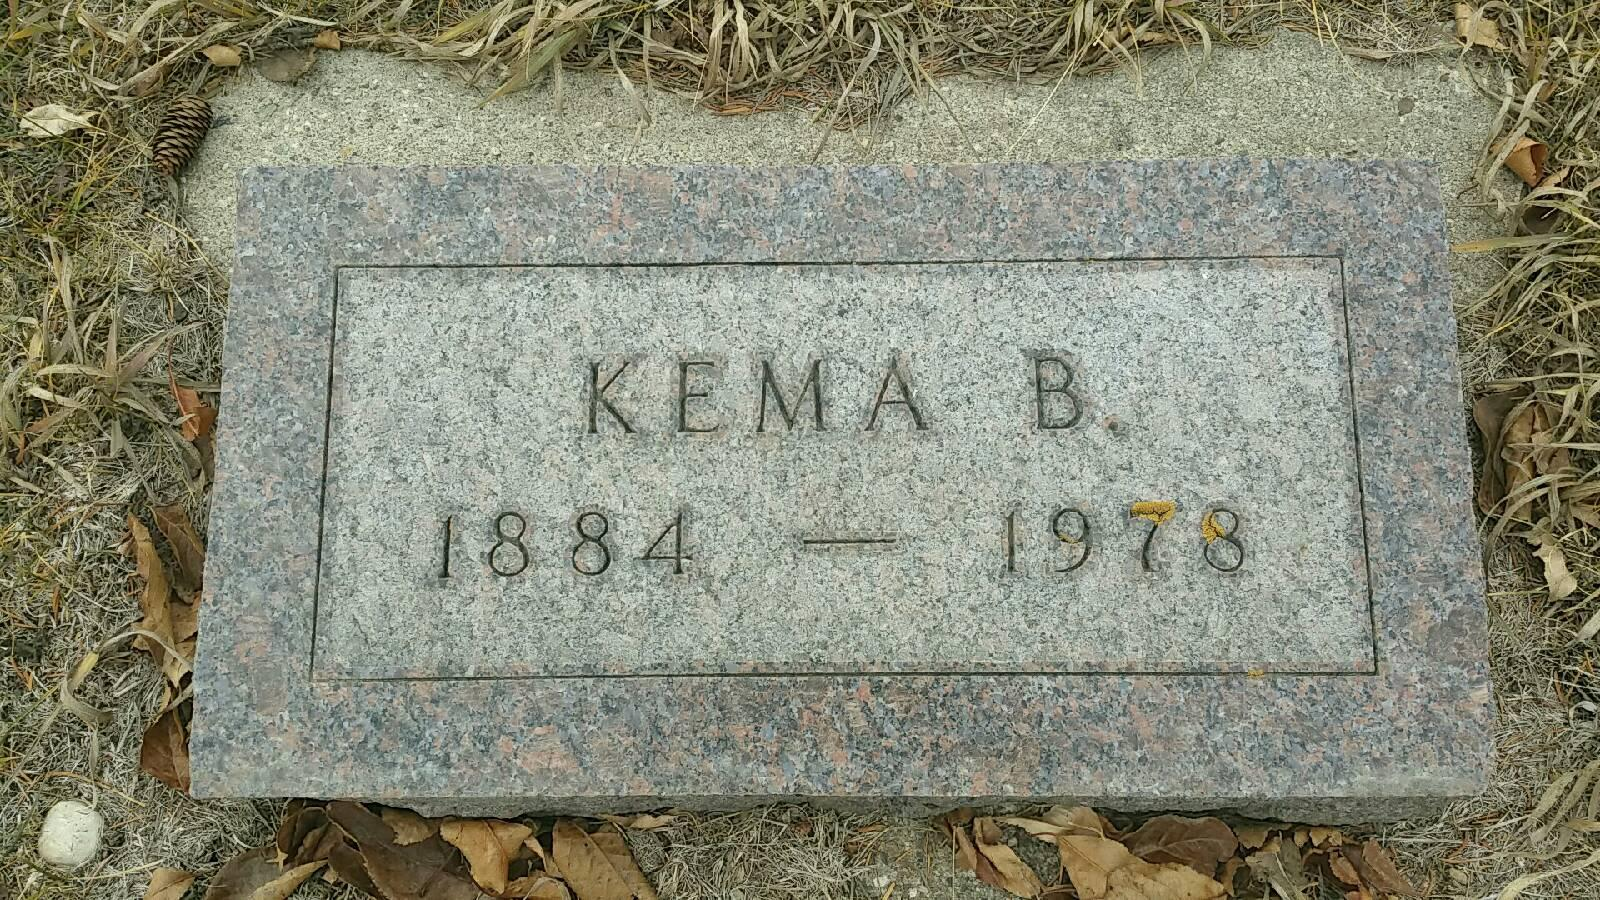flat: (185, 155, 1500, 803)
